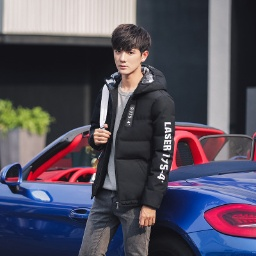face: (108, 22, 151, 75)
